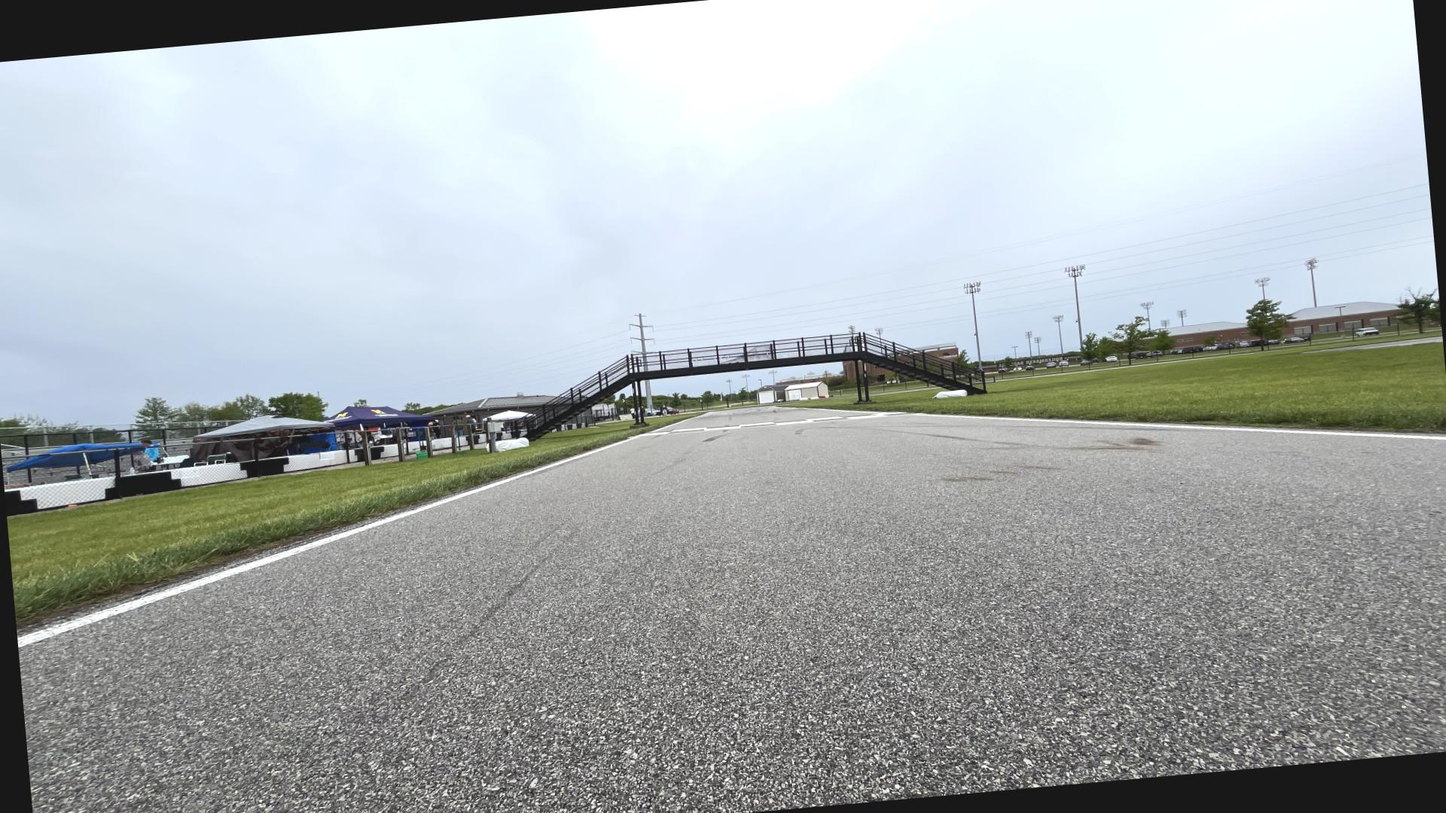white-line: (17, 437, 637, 647), (916, 415, 1445, 440), (650, 416, 699, 432), (774, 406, 884, 413)
